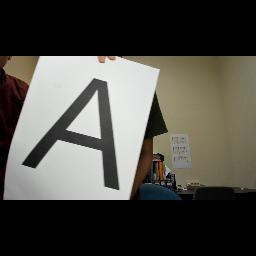a: (18, 74, 132, 194)
